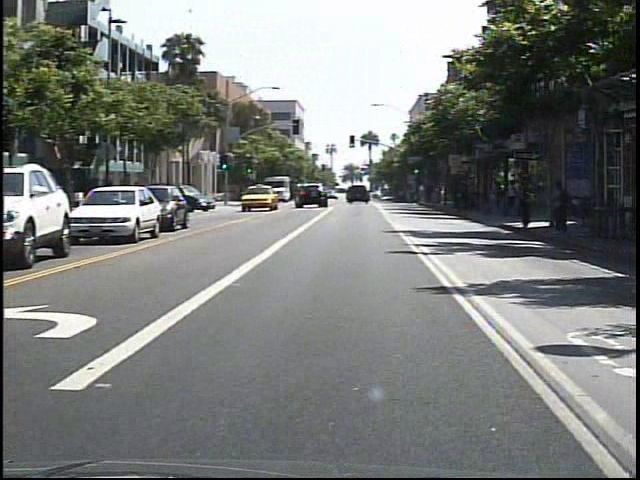person: (521, 166, 544, 233), (553, 177, 576, 240), (510, 179, 527, 219)
